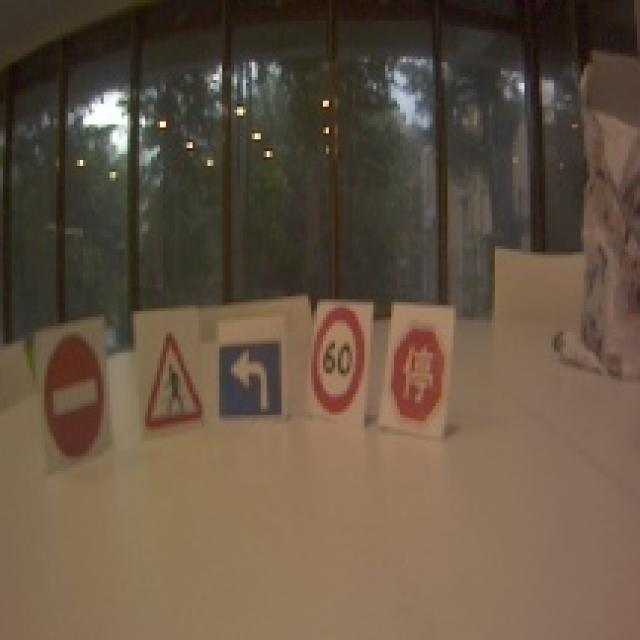DoNotEnterSign: (44, 333, 109, 459)
